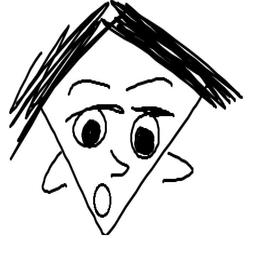ear: (35, 151, 76, 199), (154, 150, 198, 186)
eye: (71, 108, 117, 148), (130, 107, 162, 162)
eyebrow: (69, 77, 112, 93)
frowning_eyebrow: (124, 76, 174, 93)
nose: (104, 148, 130, 178)
open_mouth: (90, 181, 115, 220)
